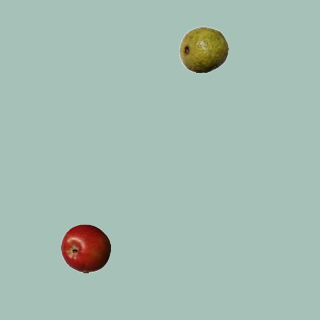Apple Braeburn: (60, 223, 110, 273)
Guava: (178, 24, 228, 74)
